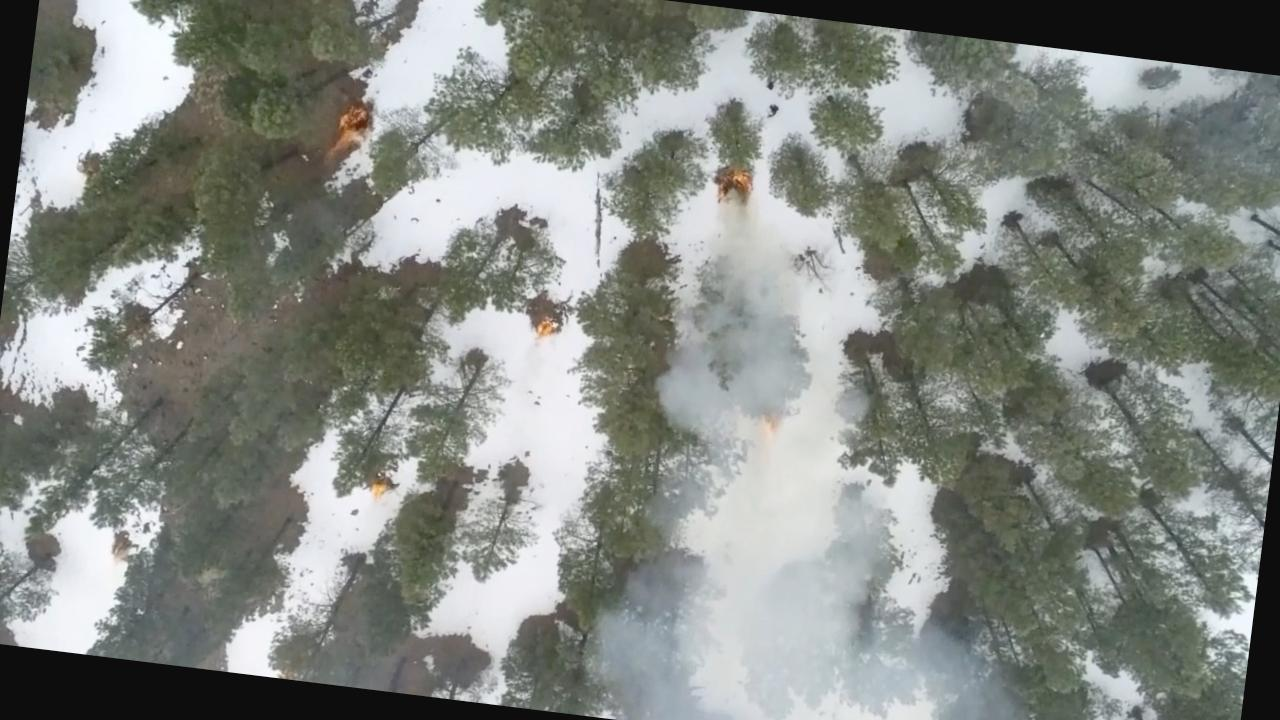fire: (328, 99, 374, 157), (710, 158, 758, 211), (530, 310, 564, 348), (365, 478, 397, 505)
smoke: (589, 473, 1070, 720), (640, 257, 904, 507)
